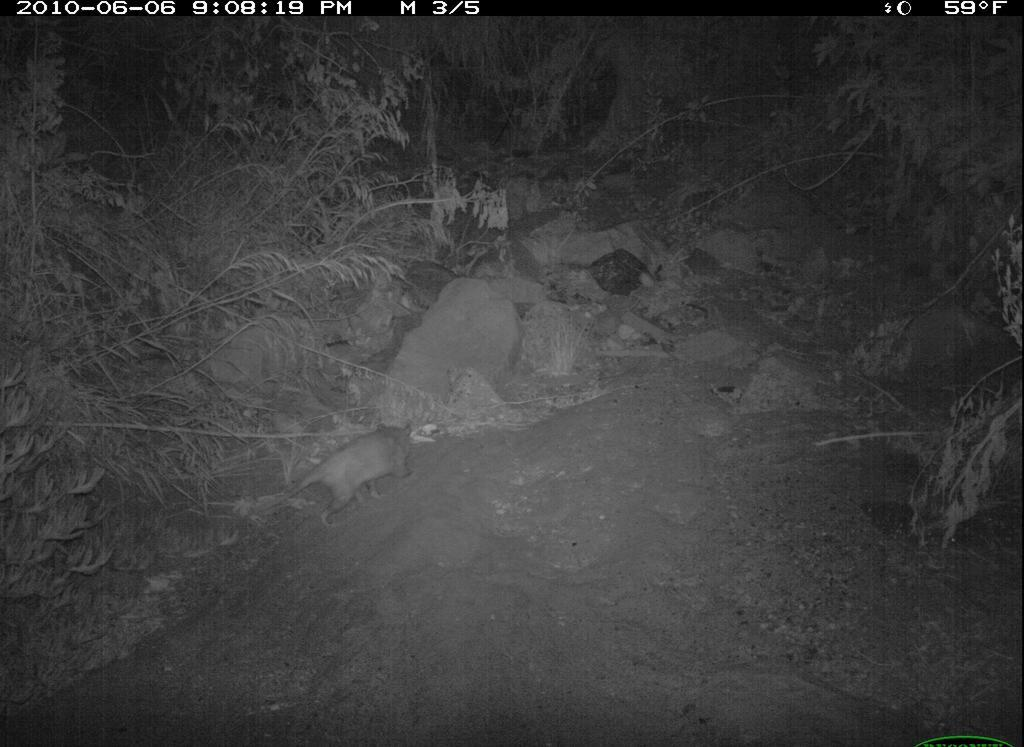opossum: (258, 420, 442, 538)
